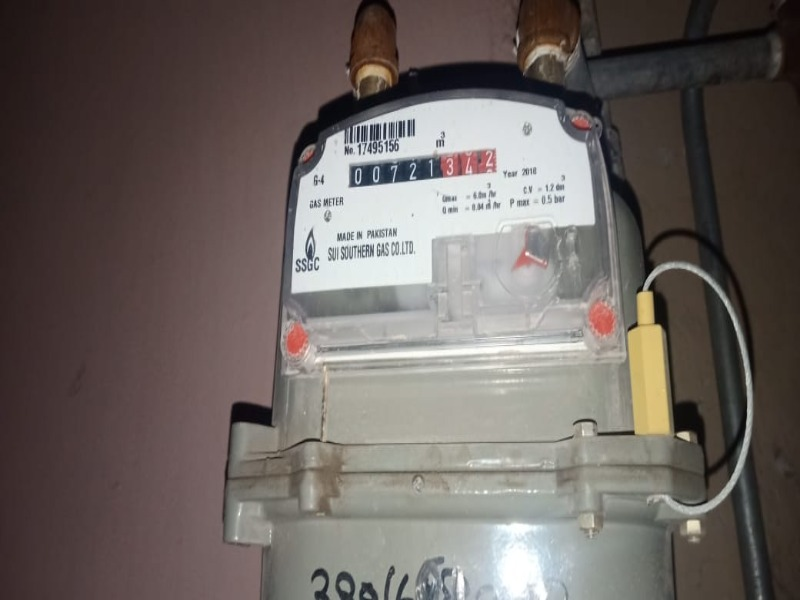ssgc: (343, 150, 498, 187)
